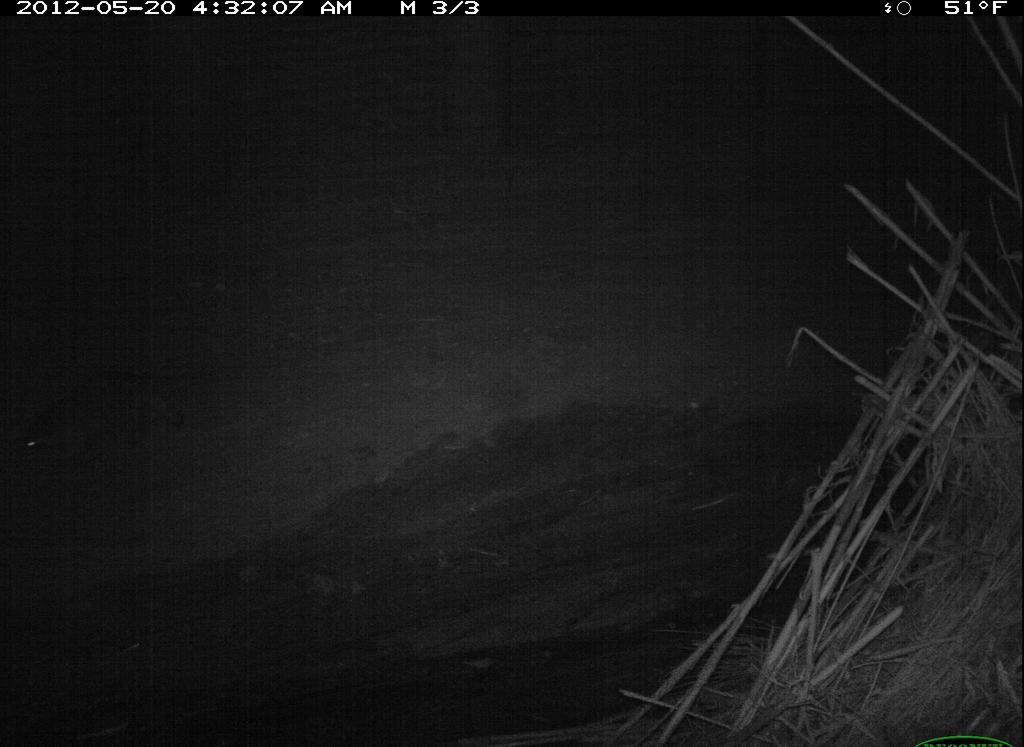raccoon: (12, 367, 194, 480)
